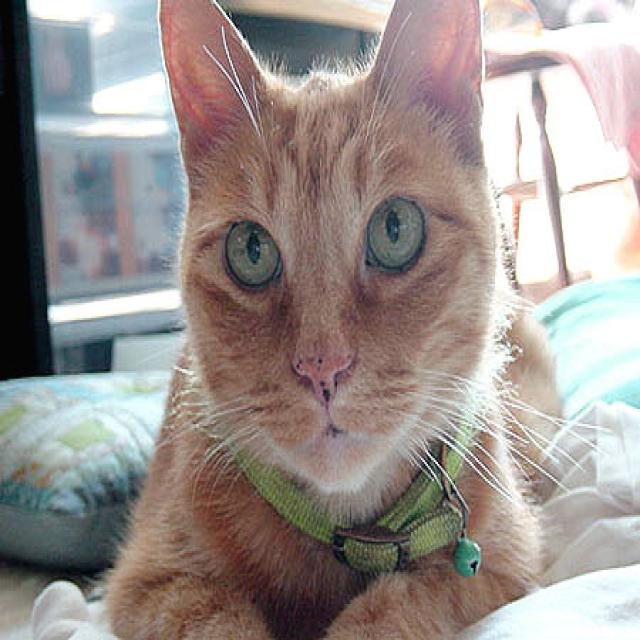left eye: (361, 191, 428, 275)
